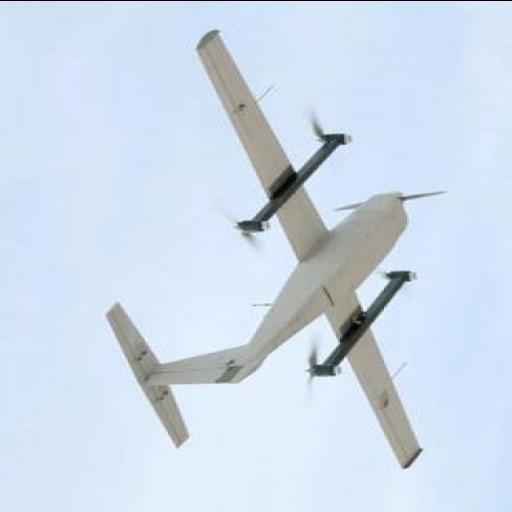uav: (103, 25, 466, 476)
